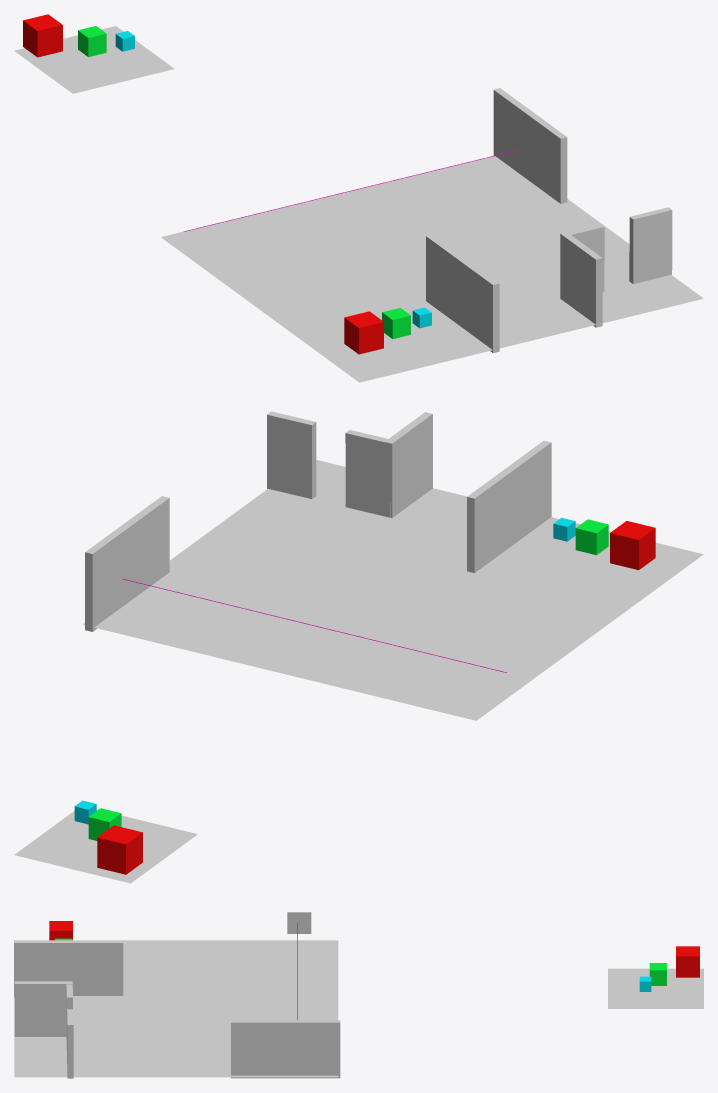
File: old.glb
3 renders of one model, top to bottom at view 1: azimuth 30°, elevation 25°; view 2: azimuth 150°, elevation 25°; view 3: azimuth 270°, elevation 25°, orthographic. The views are drawn at different scales.
Parts seen in each view (by area): view 1: Ground-Main, Wall-Laser, Wall, Ground-Platform, Wall-Corner, Wall-DoorLeft, Cube-WallLarge, Cube-PlatformLarge, Wall-DoorRight, Cube-PlatformMedium, Cube-WallMedium; view 2: Ground-Main, Wall-Laser, Wall, Ground-Platform, Wall-DoorLeft, Wall-DoorRight, Wall-Corner, Cube-PlatformLarge, Cube-WallLarge, Cube-WallMedium, Cube-PlatformMedium; view 3: Ground-Main, Wall-Laser, Wall, Ground-Platform, Wall-Corner, Cube-PlatformLarge, Target, Wall-DoorLeft, Cube-WallLarge, Cube-PlatformMedium.
Boxes of the visible parts, x1=… form: Ground-Main: x1=161, y1=156, x2=703, y2=382; Wall-Laser: x1=493, y1=88, x2=567, y2=203; Wall: x1=426, y1=234, x2=499, y2=353; Ground-Platform: x1=14, y1=26, x2=174, y2=93; Wall-Corner: x1=560, y1=232, x2=602, y2=327; Wall-DoorLeft: x1=629, y1=207, x2=672, y2=283; Cube-WallLarge: x1=344, y1=311, x2=383, y2=354; Cube-PlatformLarge: x1=23, y1=14, x2=62, y2=57; Wall-DoorRight: x1=567, y1=224, x2=604, y2=291; Cube-PlatformMedium: x1=78, y1=26, x2=106, y2=57; Cube-WallMedium: x1=382, y1=308, x2=410, y2=338; Ground-Main: x1=82, y1=460, x2=703, y2=720; Wall-Laser: x1=85, y1=496, x2=169, y2=631; Wall: x1=467, y1=440, x2=551, y2=572; Ground-Platform: x1=14, y1=809, x2=197, y2=883; Wall-DoorLeft: x1=267, y1=411, x2=316, y2=498; Wall-DoorRight: x1=345, y1=430, x2=390, y2=517; Wall-Corner: x1=385, y1=412, x2=432, y2=517; Cube-PlatformLarge: x1=97, y1=825, x2=142, y2=874; Cube-WallLarge: x1=610, y1=521, x2=655, y2=570; Cube-WallMedium: x1=575, y1=519, x2=608, y2=555; Cube-PlatformMedium: x1=88, y1=808, x2=121, y2=840; Ground-Main: x1=14, y1=940, x2=338, y2=1077; Wall-Laser: x1=231, y1=1020, x2=340, y2=1078; Wall: x1=14, y1=940, x2=123, y2=997; Ground-Platform: x1=608, y1=968, x2=703, y2=1008; Wall-Corner: x1=14, y1=981, x2=72, y2=1036; Cube-PlatformLarge: x1=676, y1=946, x2=699, y2=977; Target: x1=287, y1=912, x2=311, y2=933; Wall-DoorLeft: x1=67, y1=1009, x2=73, y2=1078; Cube-WallLarge: x1=49, y1=921, x2=72, y2=940; Cube-PlatformMedium: x1=649, y1=963, x2=666, y2=985.
Bounding box in the file's own units: 32.87 × 6.16 × 69.44.
